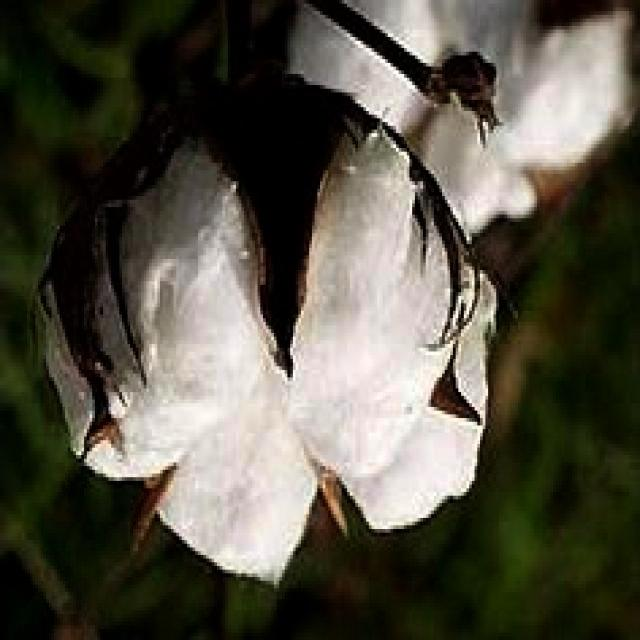Matured Cotton Boll: (54, 109, 497, 570), (264, 11, 636, 211)
